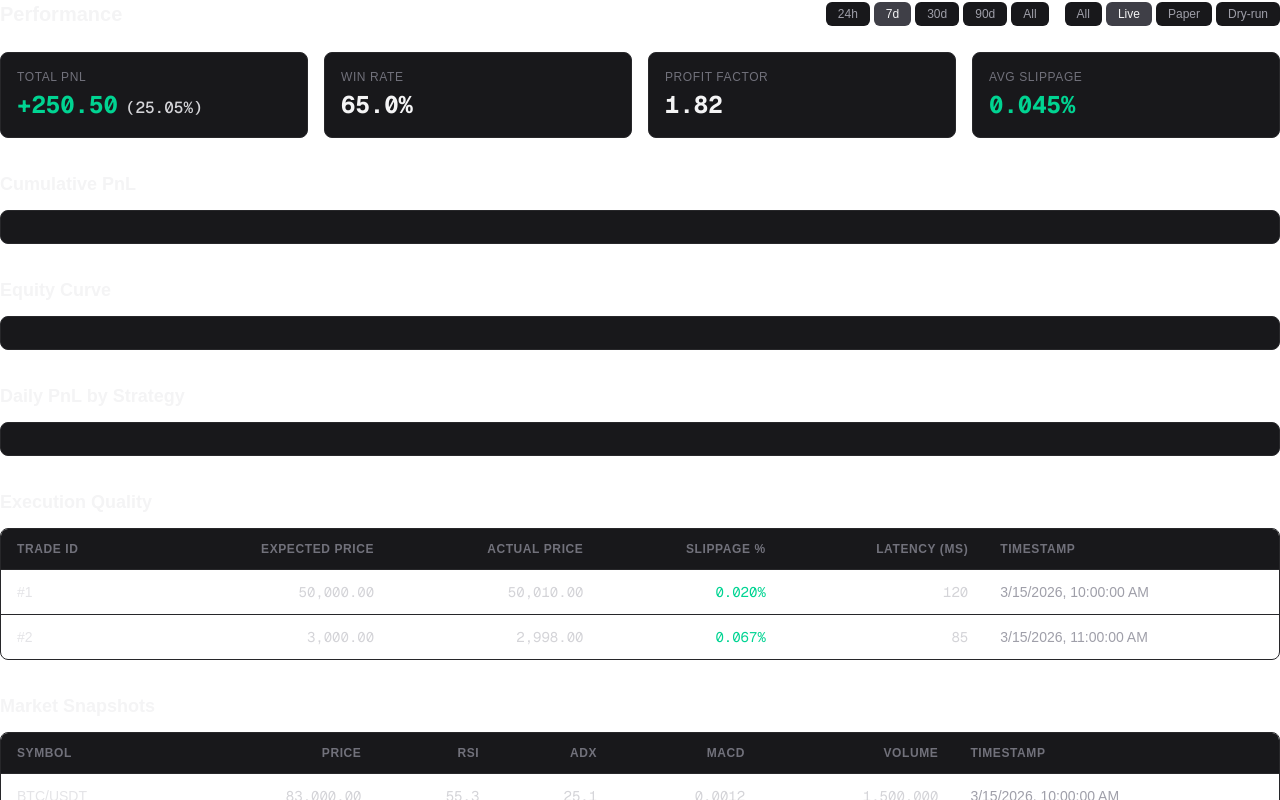
Test: Performance Page › opens and closes execution details from a table row
Click the text "#1". click: (640, 592)
box: top-left (1, 570), bottom-right (1279, 614)
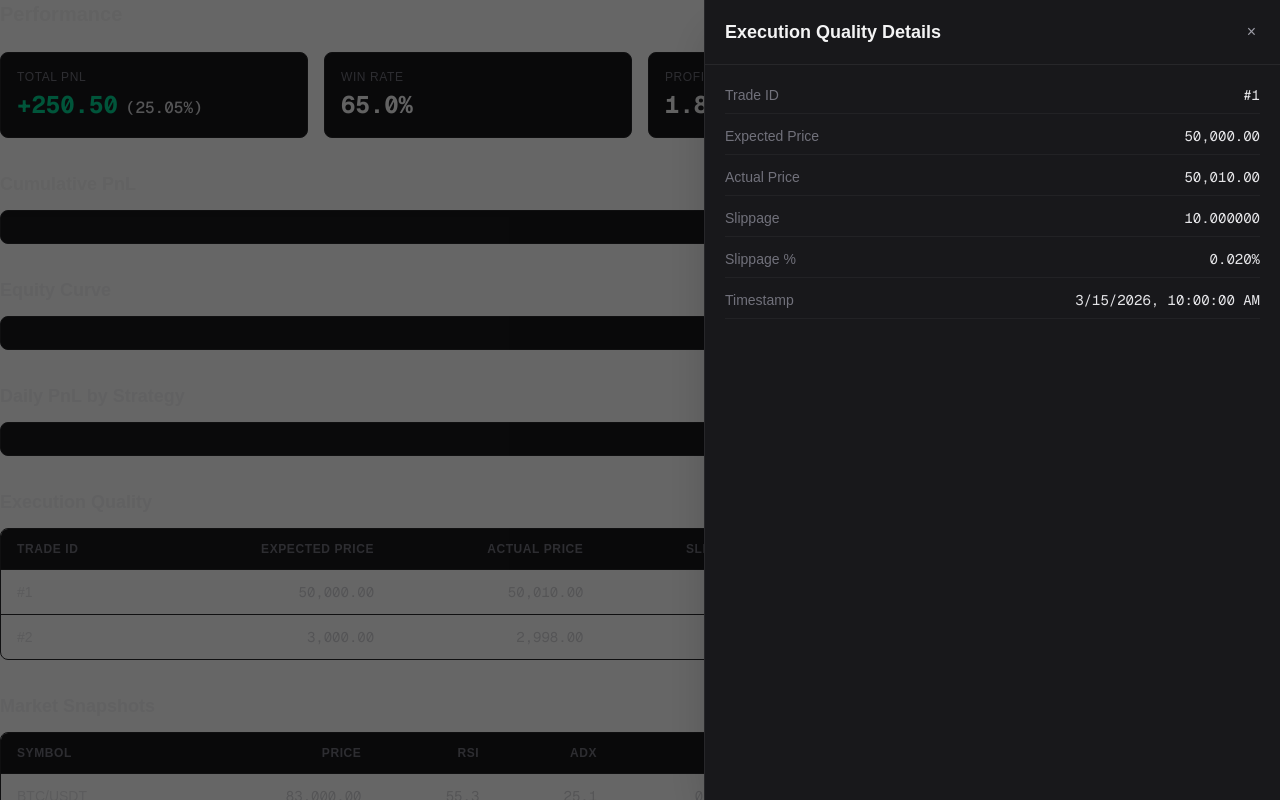
Expected: the text "#1" is shown, top-left (1, 570), bottom-right (154, 614)
Expected: the dialog "Execution Quality Details" is shown, top-left (704, 0), bottom-right (1279, 799)
Expected: the text "10.000000" is shown, top-left (1184, 208), bottom-right (1260, 228)
Click the button named "Close panel". click: (1251, 32)
box: top-left (1243, 16), bottom-right (1260, 48)
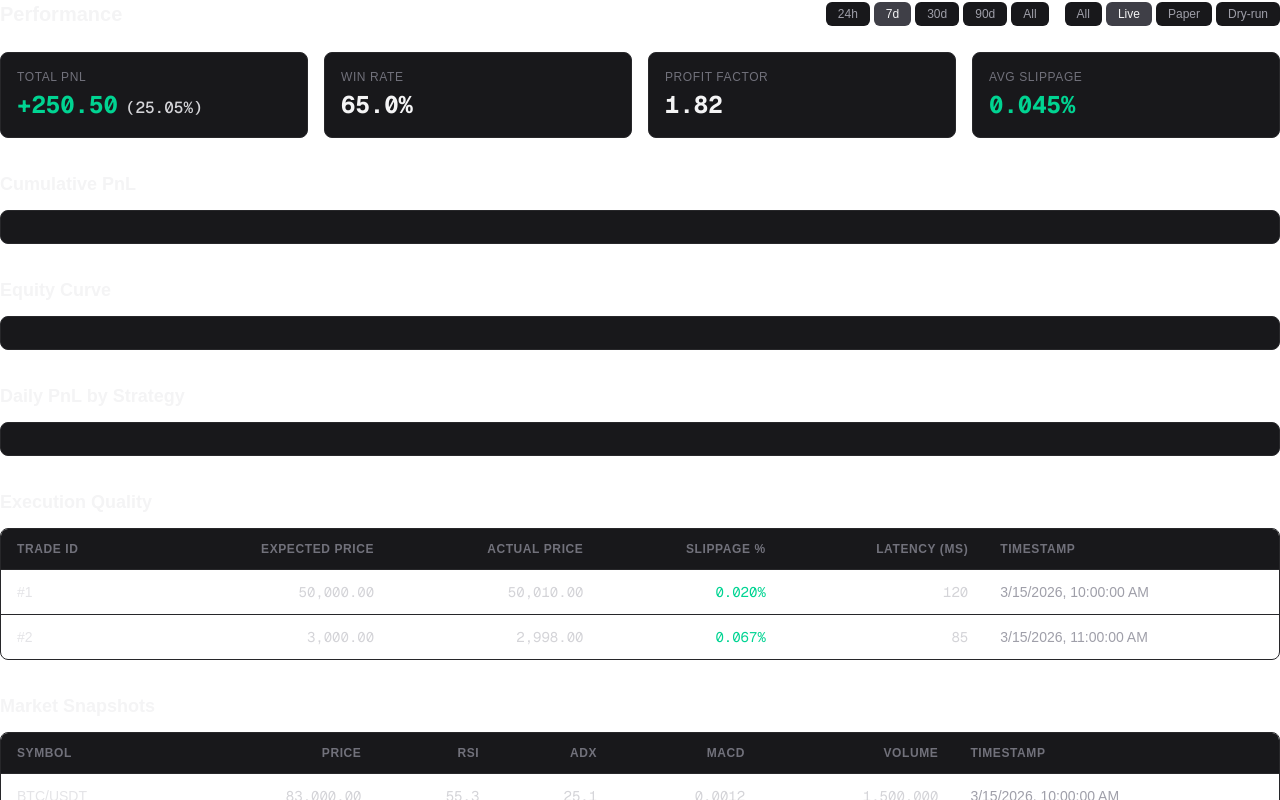
Expected: the heading "Execution Quality Details" is gone
